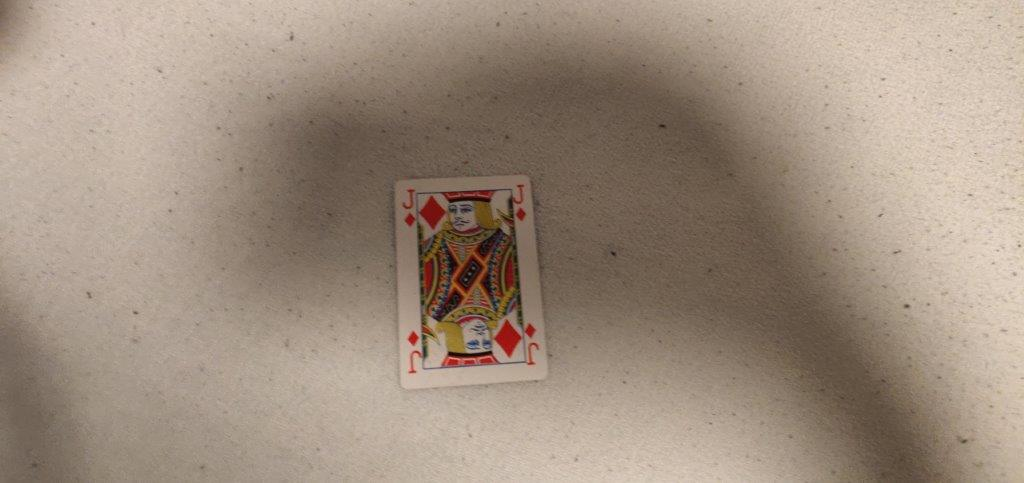JD: (398, 186, 421, 229), (511, 178, 531, 226)
